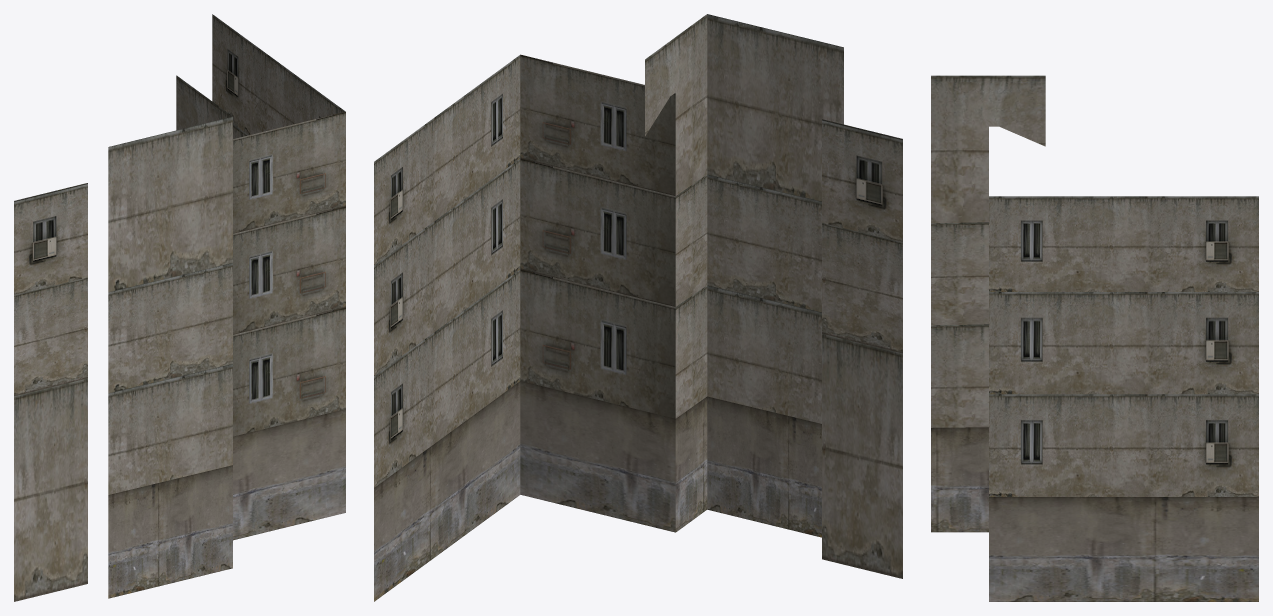
File: building16.fbx
3 renders of one model, left to right at view 1: azimuth 30°, elevation 25°; view 2: azimuth 150°, elevation 25°; view 3: azimuth 270°, elevation 25°, orthographic. The views are drawn at different scales.
Parts seen in each view (by area): view 1: polySurface421; view 2: polySurface421; view 3: polySurface421.
Part boxes in pixels (x1,y1,x2,y2): polySurface421: (14, 14, 345, 601); polySurface421: (374, 14, 902, 601); polySurface421: (931, 75, 1258, 601).
Size of the model in its own units: 1109 by 1408 by 916.
Materials: 1 (1 with a texture image).
